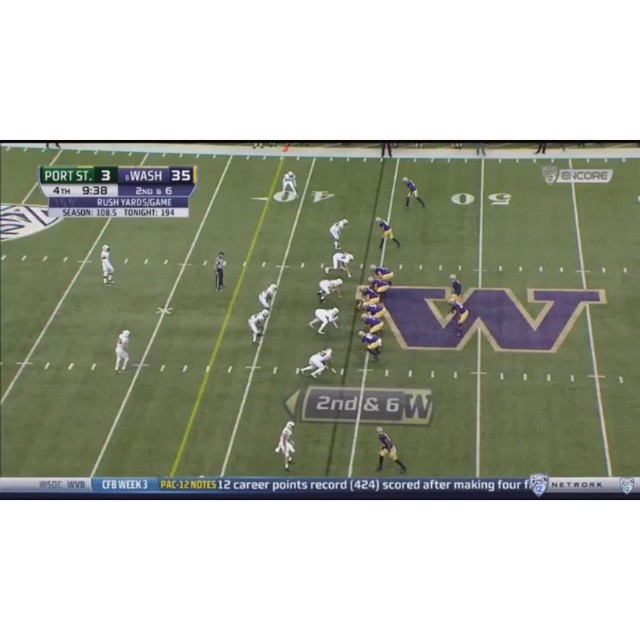american-football-player: (375, 425, 407, 472), (296, 348, 335, 379), (445, 294, 470, 337), (275, 420, 296, 471), (322, 252, 354, 279), (308, 308, 340, 335), (402, 176, 426, 210), (375, 217, 400, 249), (114, 329, 132, 373), (248, 309, 269, 345), (358, 330, 382, 361), (317, 278, 343, 302), (329, 218, 349, 249), (100, 245, 115, 286), (356, 284, 383, 306), (258, 283, 278, 312), (356, 299, 386, 318), (360, 313, 384, 335), (369, 264, 394, 285), (369, 276, 391, 298)
referee: (214, 250, 227, 292)
